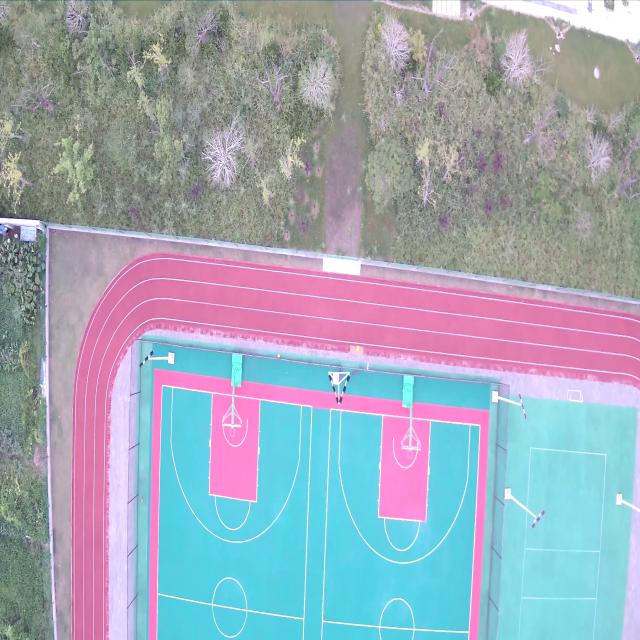UAV: (362, 359, 374, 374)
